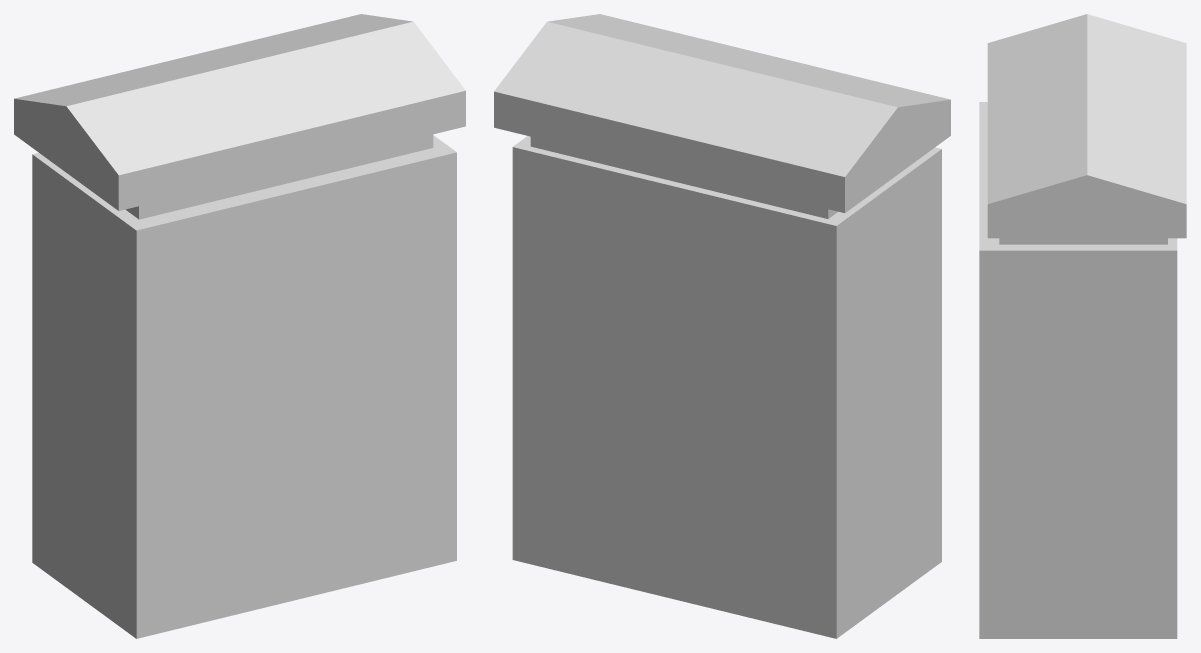
File: ElecCupboard.fbx
3 renders of one model, left to right at view 1: azimuth 30°, elevation 25°; view 2: azimuth 150°, elevation 25°; view 3: azimuth 270°, elevation 25°, orthographic. The views are drawn at different scales.
Visible parts, largest first — view 1: electricalCupboard.Door, electricalCupboard; view 2: electricalCupboard, electricalCupboard.Door; view 3: electricalCupboard, electricalCupboard.Door.
Boxes of the visible parts, x1,y1,x2,y2 form: electricalCupboard.Door: (129, 147, 456, 638); electricalCupboard: (14, 14, 465, 632); electricalCupboard: (494, 14, 950, 638); electricalCupboard.Door: (928, 147, 941, 566); electricalCupboard: (987, 14, 1186, 638); electricalCupboard.Door: (979, 102, 993, 638).
Bounding box in the file's own units: 0.4337 × 0.5901 × 0.2362.
